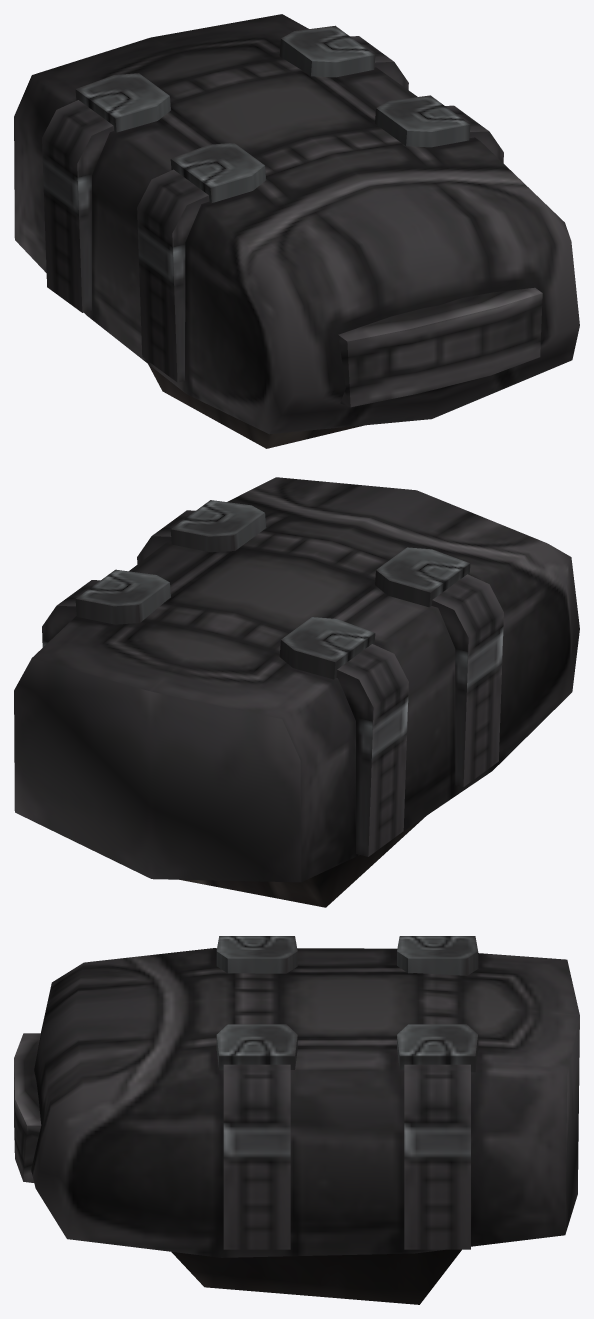
File: backpack_standard.FBX
The picture shows the model from 3 angles, top to bottom: view 1: azimuth 30°, elevation 25°; view 2: azimuth 150°, elevation 25°; view 3: azimuth 270°, elevation 25°; orthographic projection. The views are drawn at different scales.
Visible parts, largest first — view 1: backpack_standard; view 2: backpack_standard; view 3: backpack_standard.
Part boxes in pixels (left/top/right/bottom): backpack_standard: left=14, top=14, right=579, bottom=448; backpack_standard: left=14, top=477, right=579, bottom=907; backpack_standard: left=14, top=936, right=579, bottom=1304.
Size of the model in its own units: 19.14 by 16.03 by 29.83.
